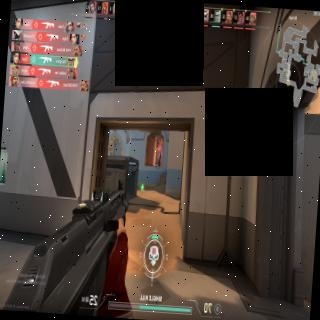ENEMY-BODY: (158, 150, 162, 166)
ENEMY-HEAD: (160, 152, 160, 154)
